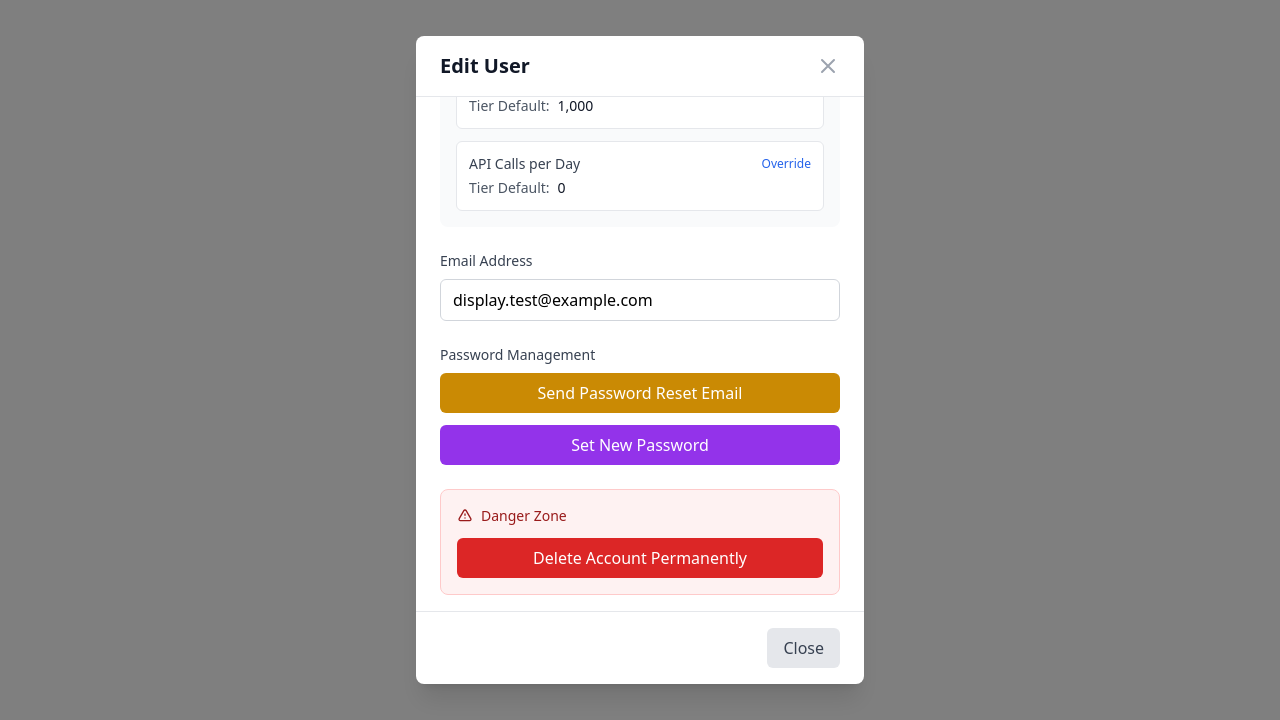
it: Property-Based Test: Email Confirmation › Property 2: Email Confirmation Enables Delete › should display the target email address in the confirmation dialog
(page scrolled)
Click the button with test id "delete-account-button" at (640, 558), box [457,538,823,578]
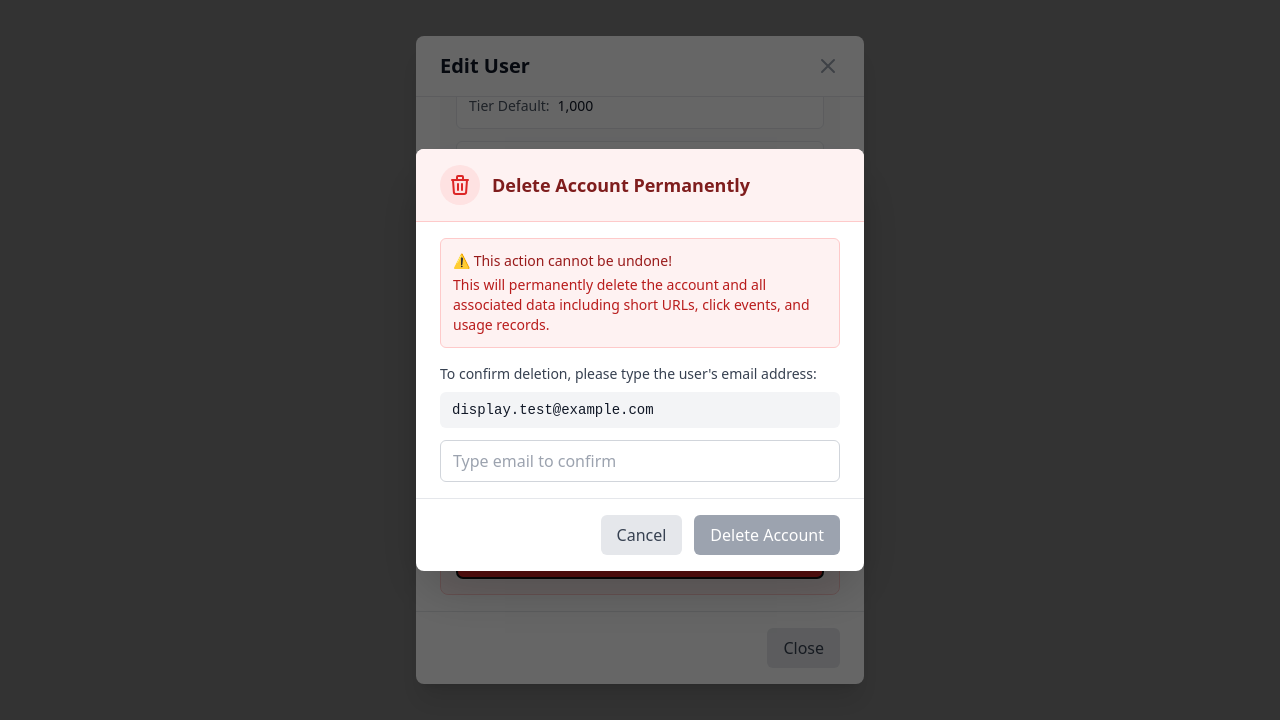
Expected: the text "display.test@example.com" is shown, [440,392,840,428]
Expected: the text with test id "target-email-display" reads "display.test@example.com", [452,402,654,418]
